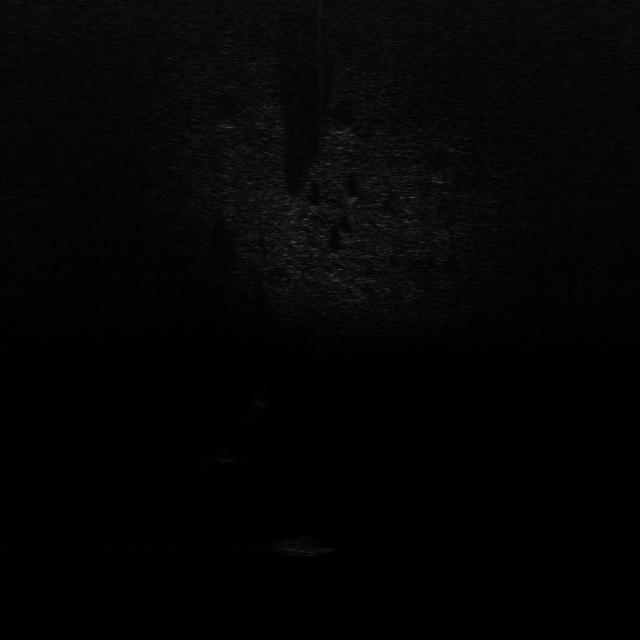ball: (216, 445, 240, 465)
circle cage: (280, 533, 332, 558)
human body: (250, 380, 278, 420)
